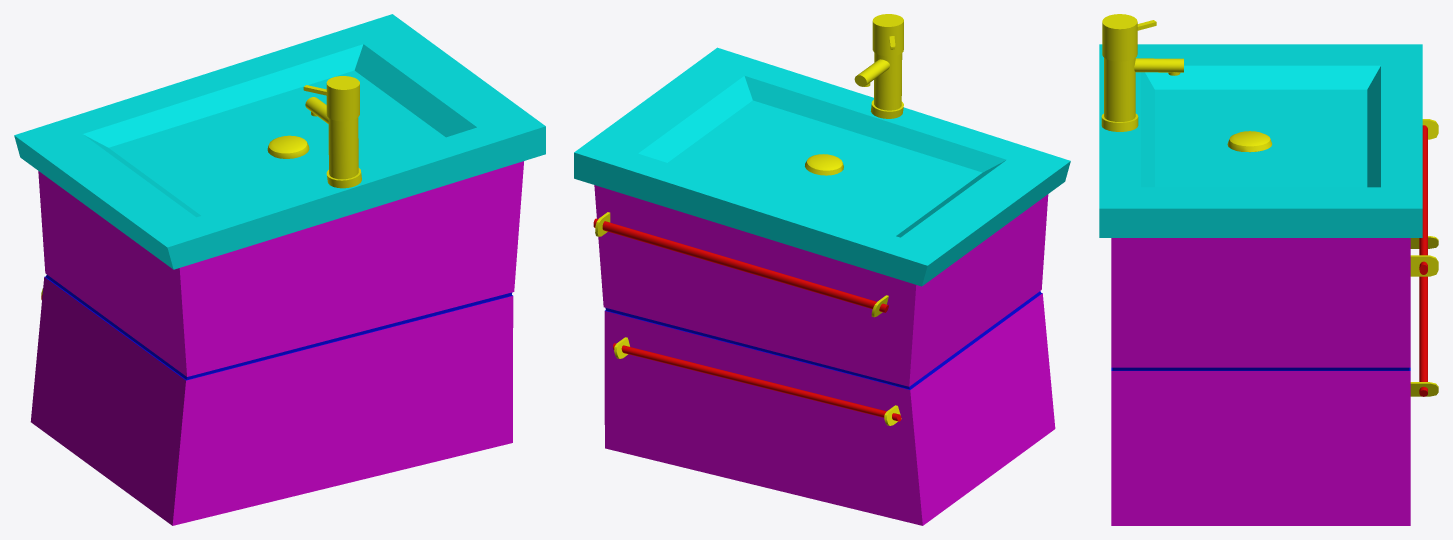
File: washingtable.fbx
3 views of the same model, side by side, from view 1: azimuth 30°, elevation 25°; view 2: azimuth 150°, elevation 25°; view 3: azimuth 270°, elevation 25° (orthographic). The views are drawn at different scales.
Parts seen in each view (by area): view 1: WashingTable; view 2: WashingTable; view 3: WashingTable.
Part boxes in pixels (x1,y1,x2,y2): WashingTable: (14,14,545,525); WashingTable: (574,14,1070,525); WashingTable: (1099,14,1438,525).
Size of the model in its own units: 33.83 by 33.96 by 24.91.
